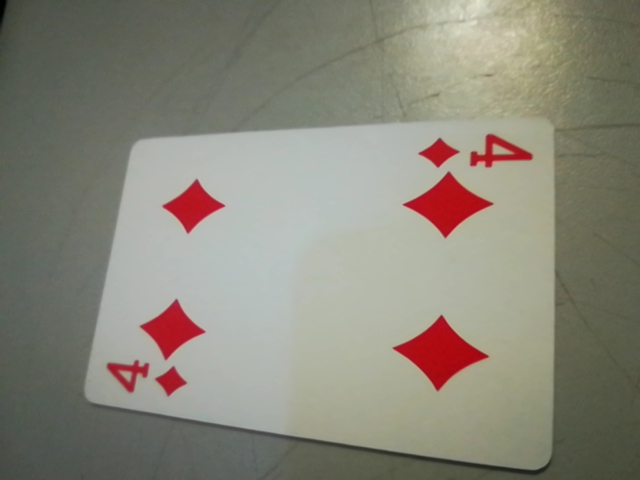fk 4: (417, 136, 541, 176)
